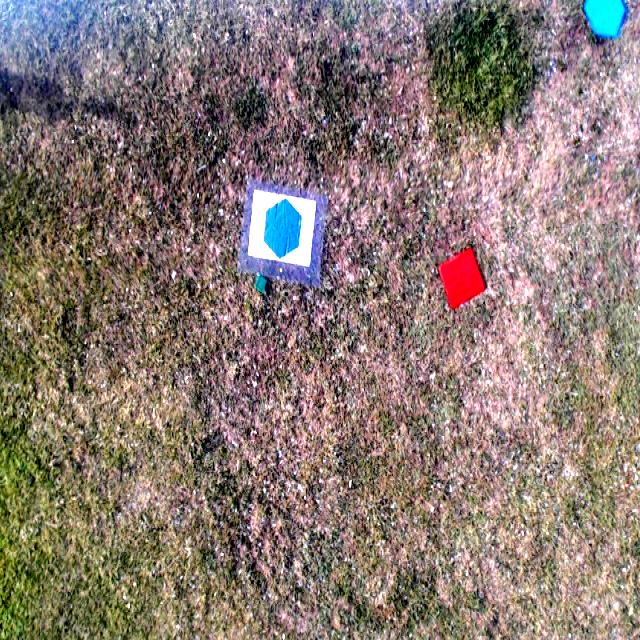blue_hexagon: (263, 198, 303, 259)
red_square: (440, 250, 487, 306)
